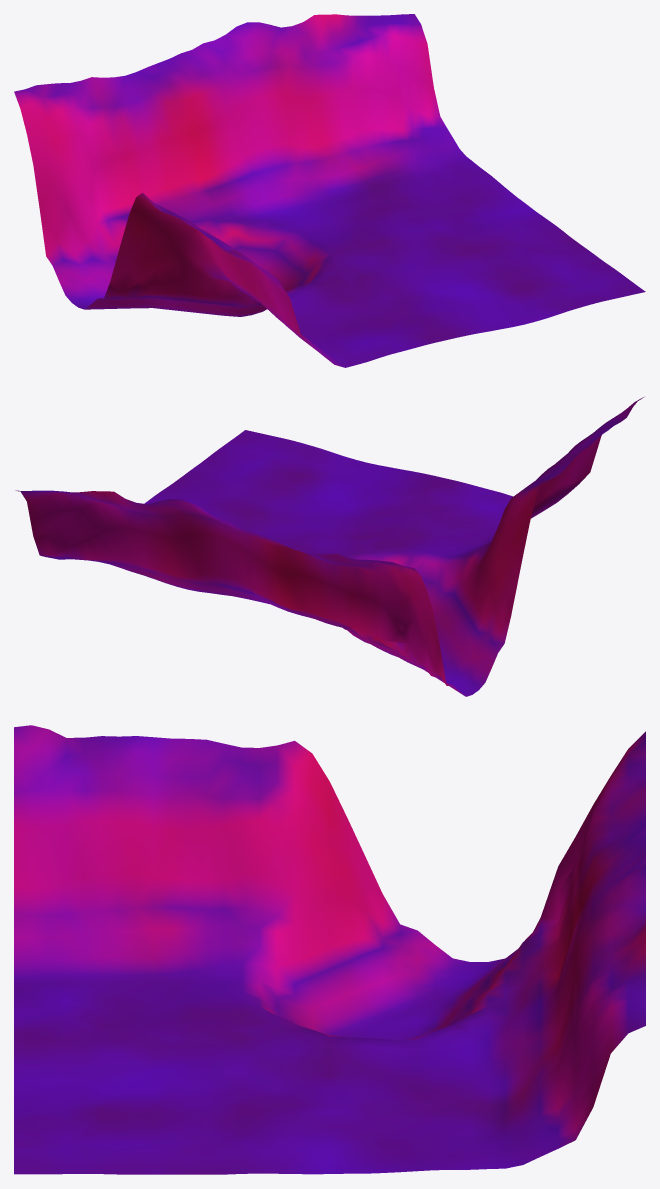
Rendered from ground_00.glb.
3 renders of one model, top to bottom at view 1: azimuth 30°, elevation 25°; view 2: azimuth 150°, elevation 25°; view 3: azimuth 270°, elevation 25°, orthographic. The views are drawn at different scales.
Visible parts, largest first — view 1: Ground_00; view 2: Ground_00; view 3: Ground_00.
Boxes of the visible parts, box(x1,y1,x2,y2) form: Ground_00: box(14, 14, 645, 367); Ground_00: box(15, 397, 643, 696); Ground_00: box(14, 725, 645, 1174).
Size of what is drawn, in the model's own units: 36 by 15.57 by 36.
